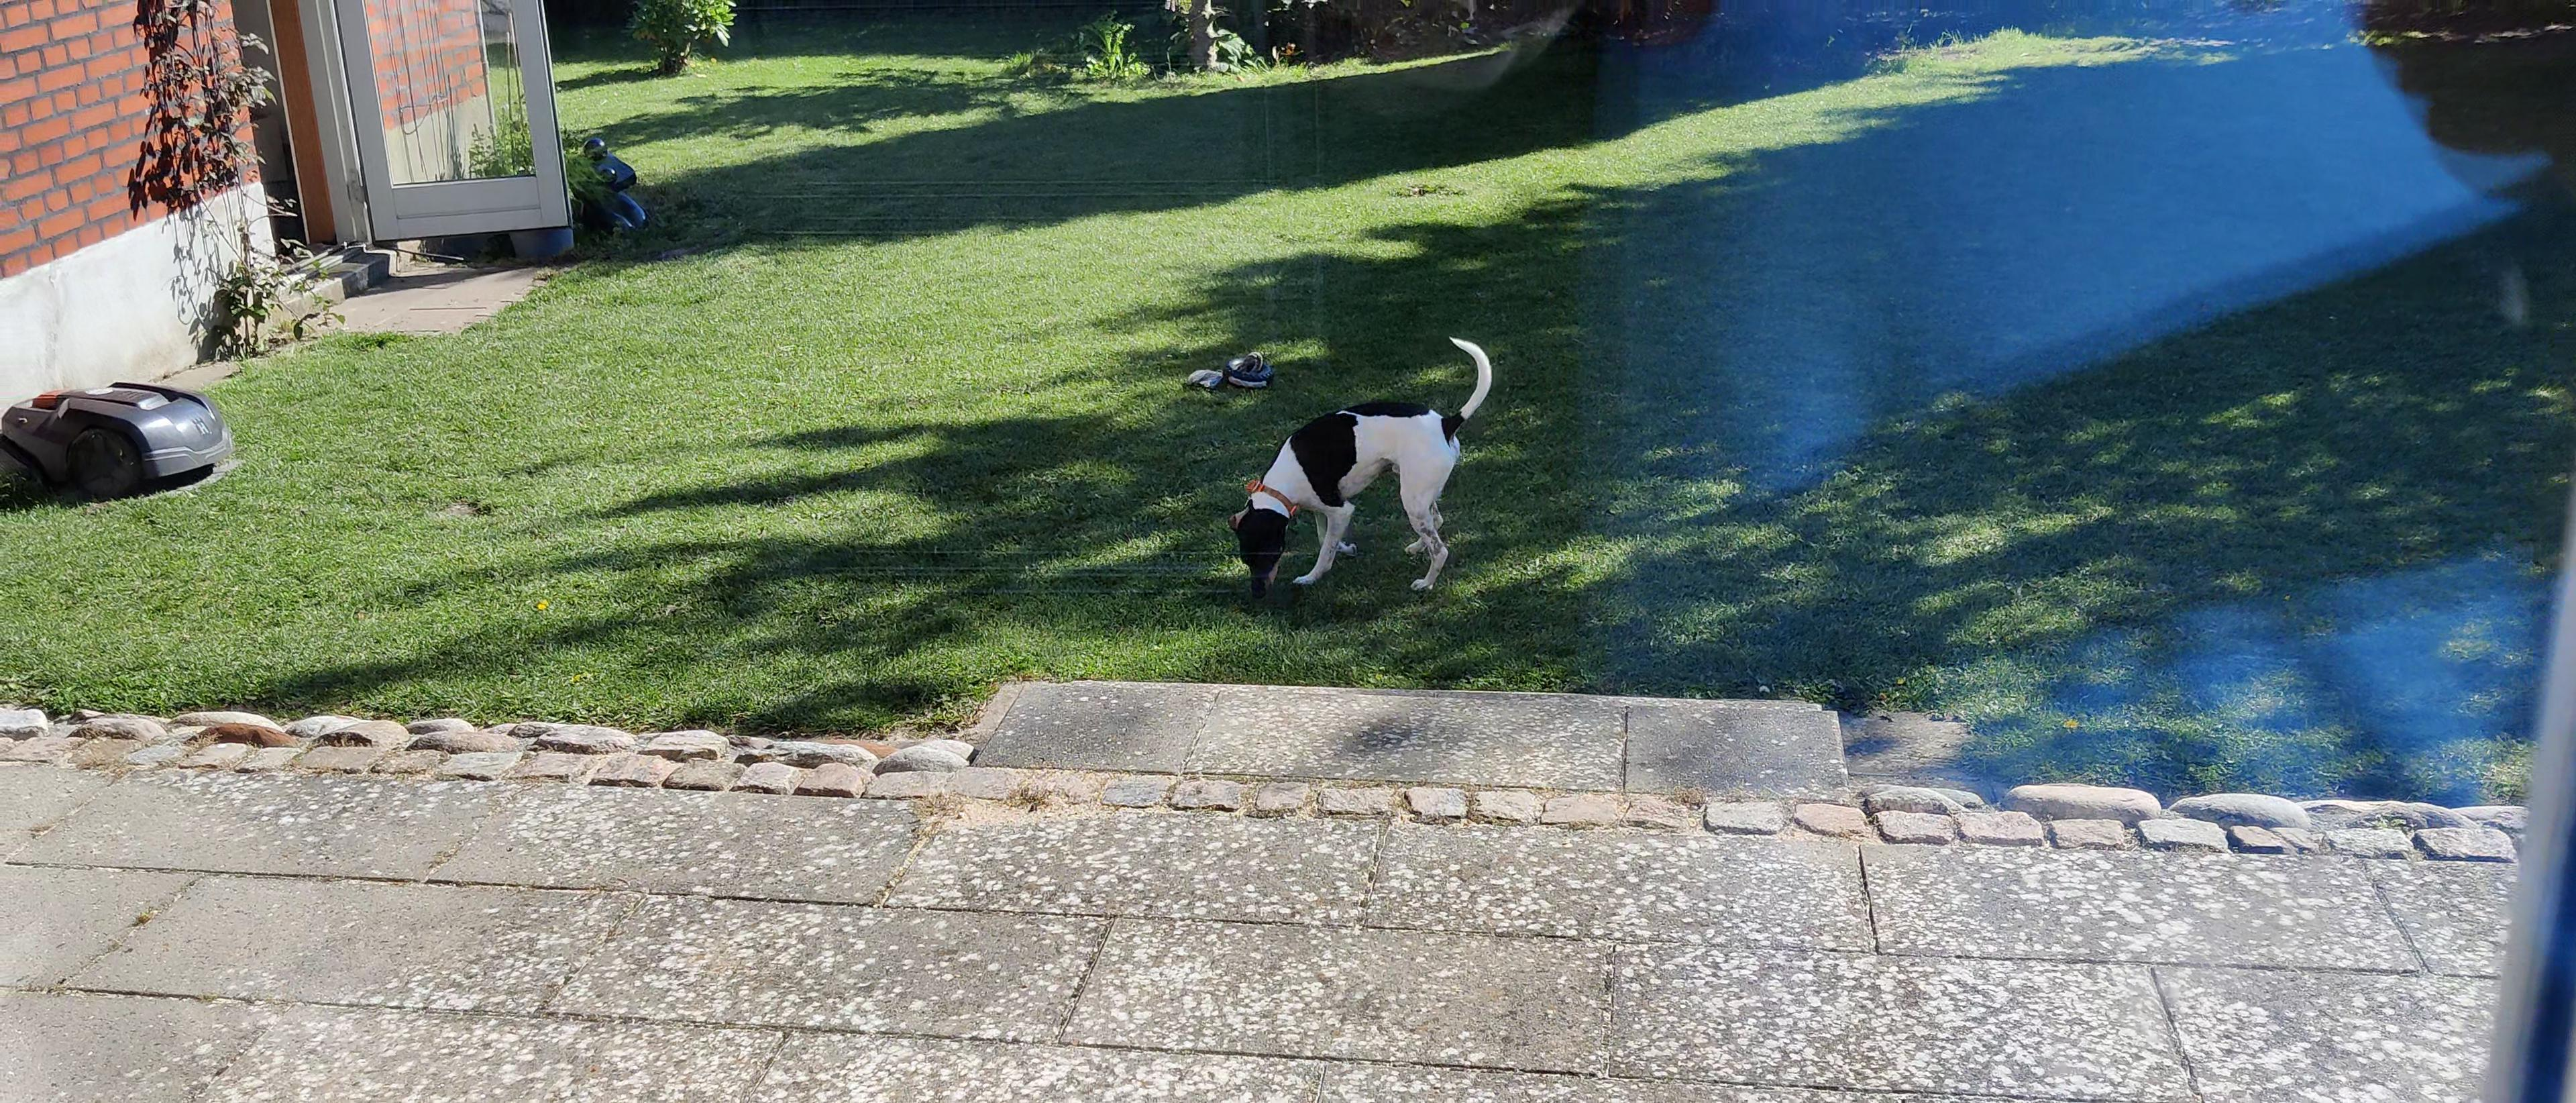Dog: (1211, 330, 1493, 610)
